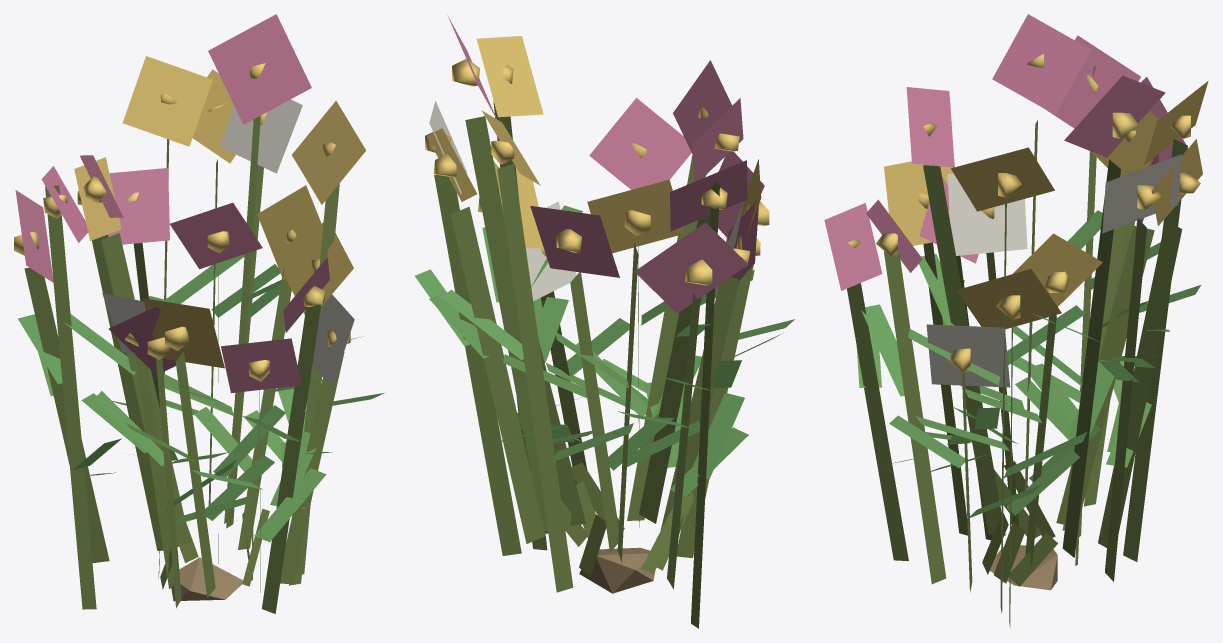
File: wildflowers_far.glb
3 renders of one model, left to right at view 1: azimuth 30°, elevation 25°; view 2: azimuth 150°, elevation 25°; view 3: azimuth 270°, elevation 25°, orthographic. The views are drawn at different scales.
Parts seen in each view (by area): view 1: wildflowers; view 2: wildflowers; view 3: wildflowers.
Part boxes in pixels (left/top/right/bottom): wildflowers: left=14, top=14, right=385, bottom=613; wildflowers: left=415, top=15, right=794, bottom=628; wildflowers: left=824, top=14, right=1208, bottom=627.
Size of the model in its own units: 0.5899 by 1.01 by 0.6136.
